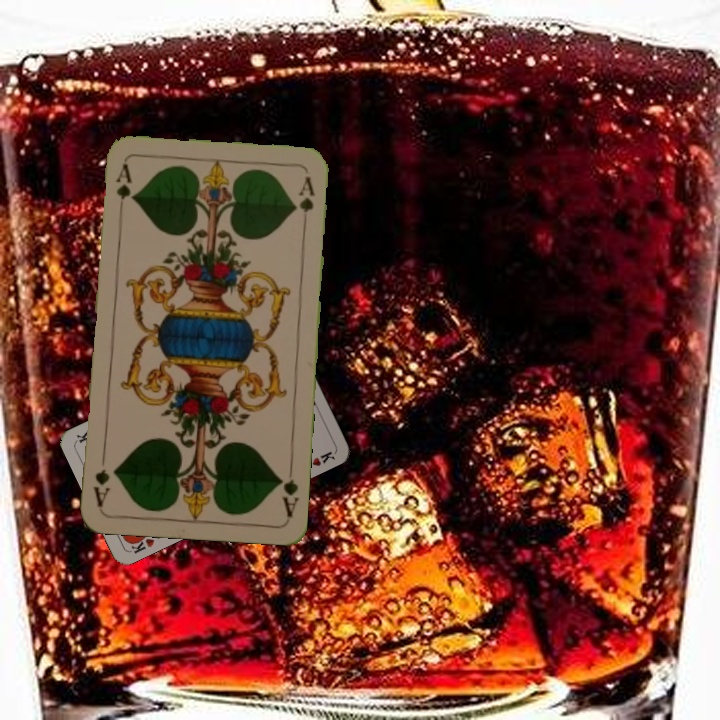GA: (274, 460, 301, 519), (111, 160, 135, 218)
HK: (124, 530, 157, 556)
